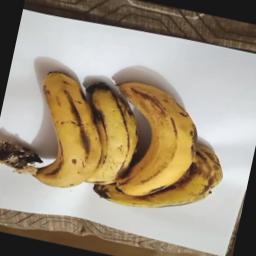Banana Unripe: (0, 57, 241, 230)
